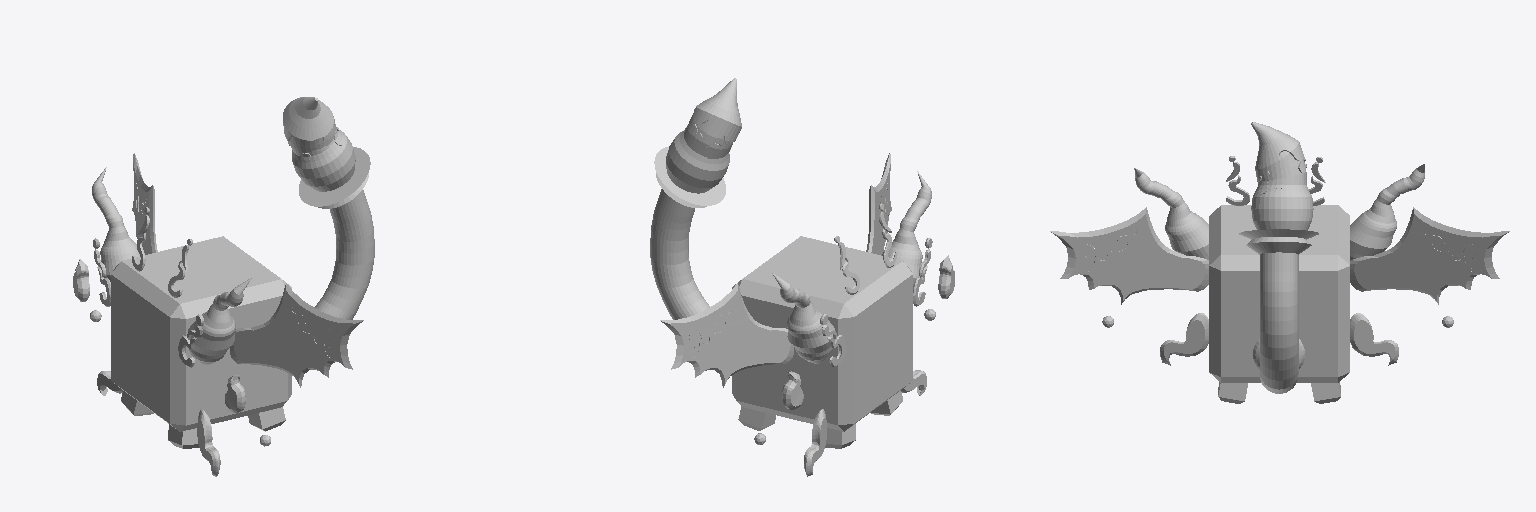
The model's file is Inky Guardian.obj.
3 views of the same model, side by side, from view 1: azimuth 30°, elevation 25°; view 2: azimuth 150°, elevation 25°; view 3: azimuth 270°, elevation 25° (orthographic).
Visible parts, largest first — view 1: Meshpart12, Meshpart5, Meshpart8, Meshpart3, Meshpart6, Meshpart7, Stone1, Meshpart2, Meshpart11, Meshpart10, Meshpart9; view 2: Meshpart12, Meshpart5, Meshpart8, Meshpart3, Meshpart6, Meshpart7, Stone1, Meshpart2, Meshpart11, Meshpart10, Meshpart9; view 3: Meshpart12, Meshpart5, Meshpart8, Meshpart3, Meshpart6, Meshpart2, Meshpart7, Stone1, Meshpart4, Meshpart9.
Boxes of the visible parts, x1=… form: Meshpart12: x1=111, y1=236, x2=291, y2=431; Meshpart5: x1=132, y1=153, x2=363, y2=387; Meshpart8: x1=299, y1=147, x2=374, y2=319; Meshpart3: x1=92, y1=167, x2=251, y2=364; Meshpart6: x1=289, y1=129, x2=355, y2=191; Meshpart7: x1=283, y1=97, x2=344, y2=160; Stone1: x1=121, y1=391, x2=285, y2=448; Meshpart2: x1=97, y1=371, x2=220, y2=476; Meshpart11: x1=73, y1=259, x2=245, y2=412; Meshpart10: x1=93, y1=238, x2=203, y2=367; Meshpart9: x1=132, y1=207, x2=192, y2=297; Meshpart12: x1=732, y1=236, x2=912, y2=431; Meshpart5: x1=660, y1=153, x2=891, y2=387; Meshpart8: x1=650, y1=147, x2=725, y2=319; Meshpart3: x1=772, y1=171, x2=931, y2=363; Meshpart6: x1=666, y1=113, x2=732, y2=193; Meshpart7: x1=685, y1=78, x2=741, y2=158; Stone1: x1=738, y1=391, x2=902, y2=448; Meshpart2: x1=804, y1=370, x2=926, y2=476; Meshpart11: x1=782, y1=255, x2=954, y2=409; Meshpart10: x1=820, y1=238, x2=932, y2=366; Meshpart9: x1=834, y1=204, x2=896, y2=294; Meshpart12: x1=1209, y1=205, x2=1349, y2=382; Meshpart5: x1=1050, y1=207, x2=1509, y2=304; Meshpart8: x1=1239, y1=229, x2=1318, y2=393; Meshpart3: x1=1134, y1=164, x2=1424, y2=260; Meshpart6: x1=1251, y1=151, x2=1313, y2=230; Meshpart2: x1=1160, y1=313, x2=1398, y2=365; Meshpart7: x1=1251, y1=122, x2=1306, y2=194; Stone1: x1=1218, y1=382, x2=1340, y2=403; Meshpart4: x1=1083, y1=230, x2=1476, y2=270; Meshpart9: x1=1226, y1=156, x2=1325, y2=205.
Bounding box in the file's own units: 10.75 × 13.92 × 18.55.